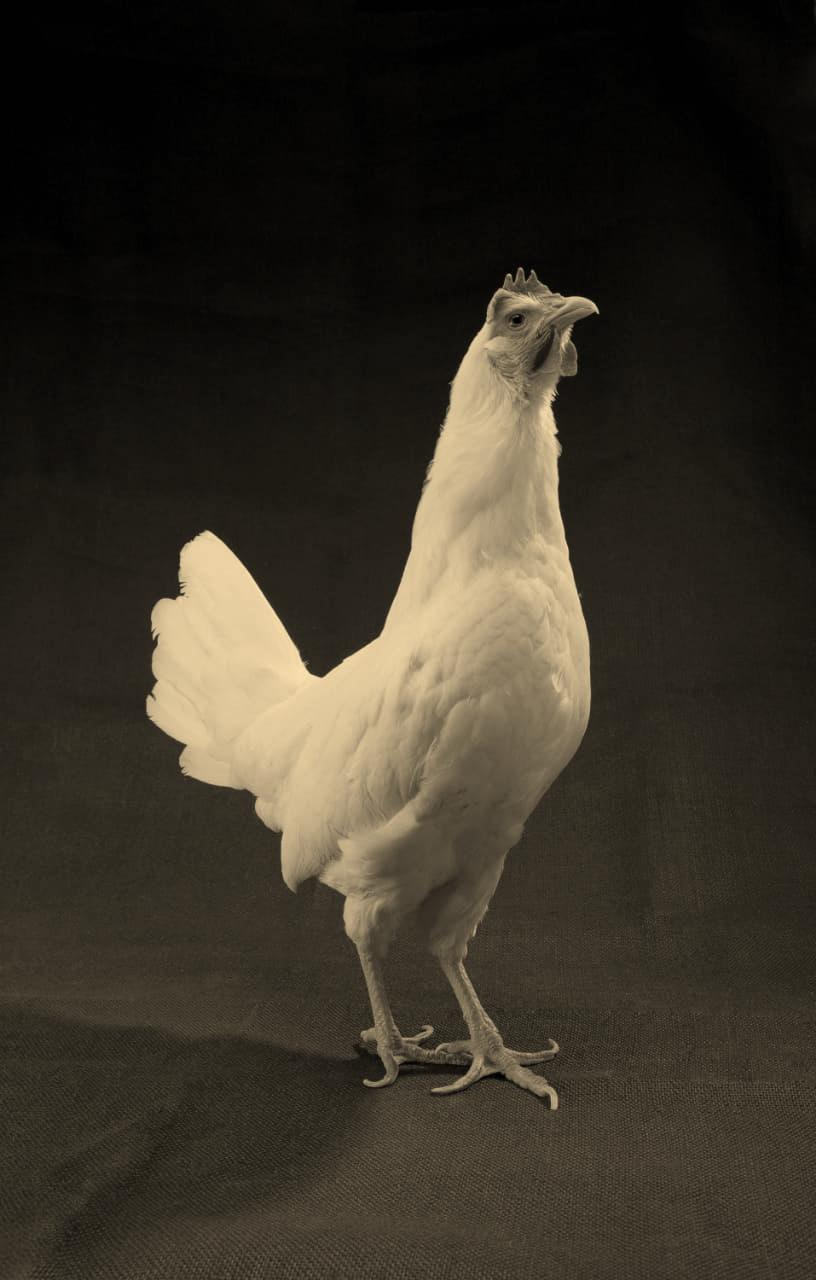Healthy: (140, 235, 672, 1140)
